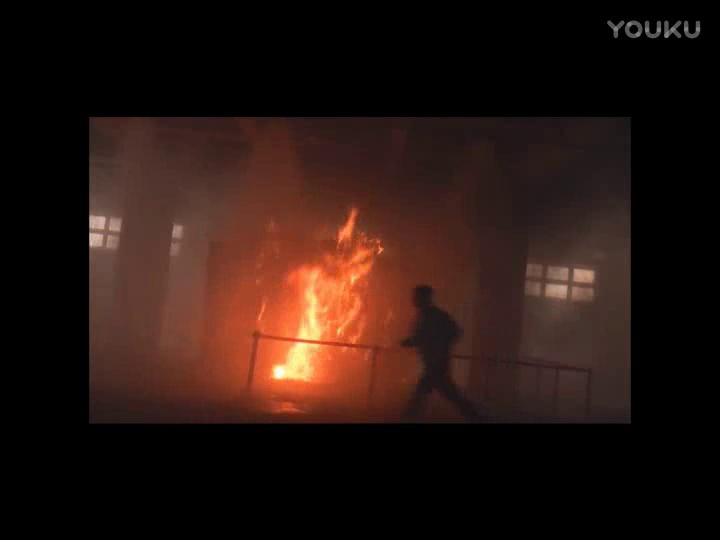fire: (274, 270, 324, 379)
